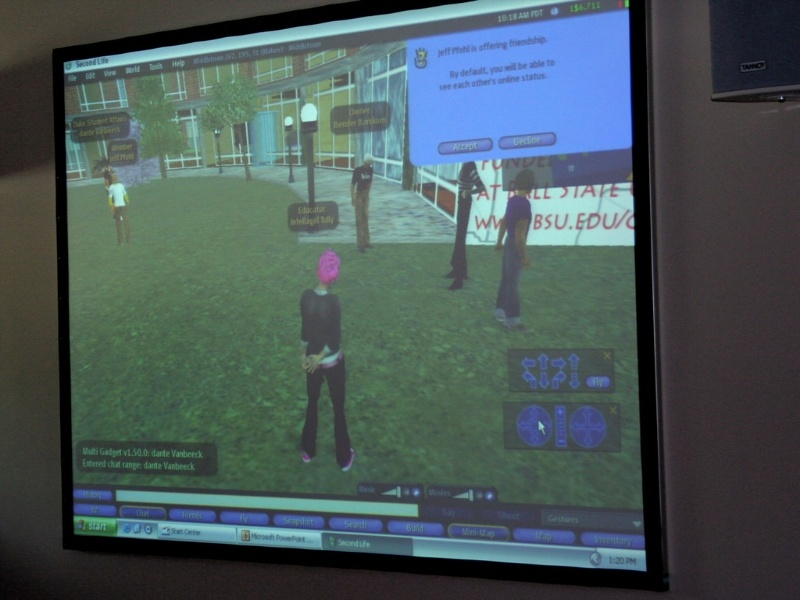tv: (44, 14, 681, 590)
